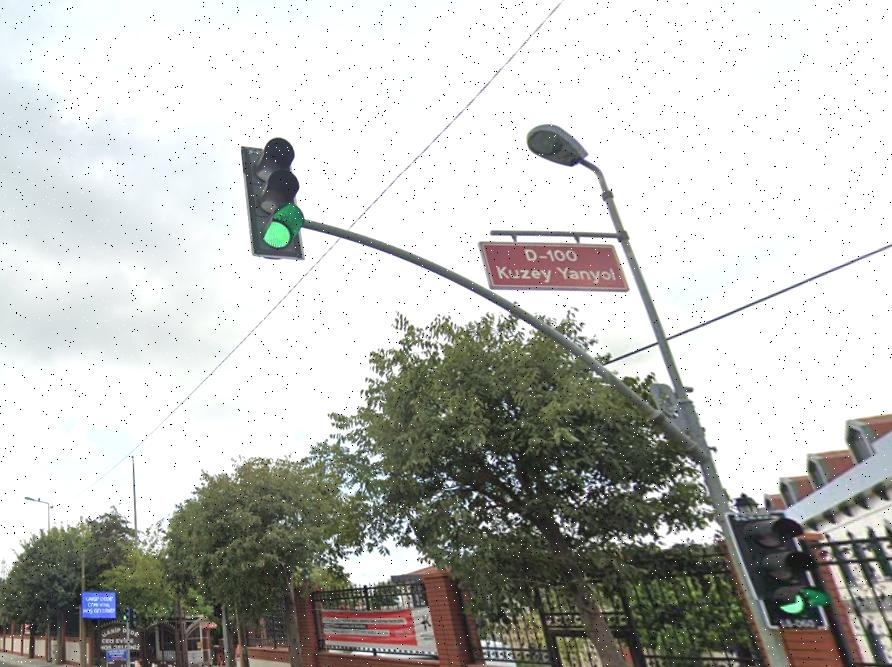greenlight: (235, 136, 317, 268)
